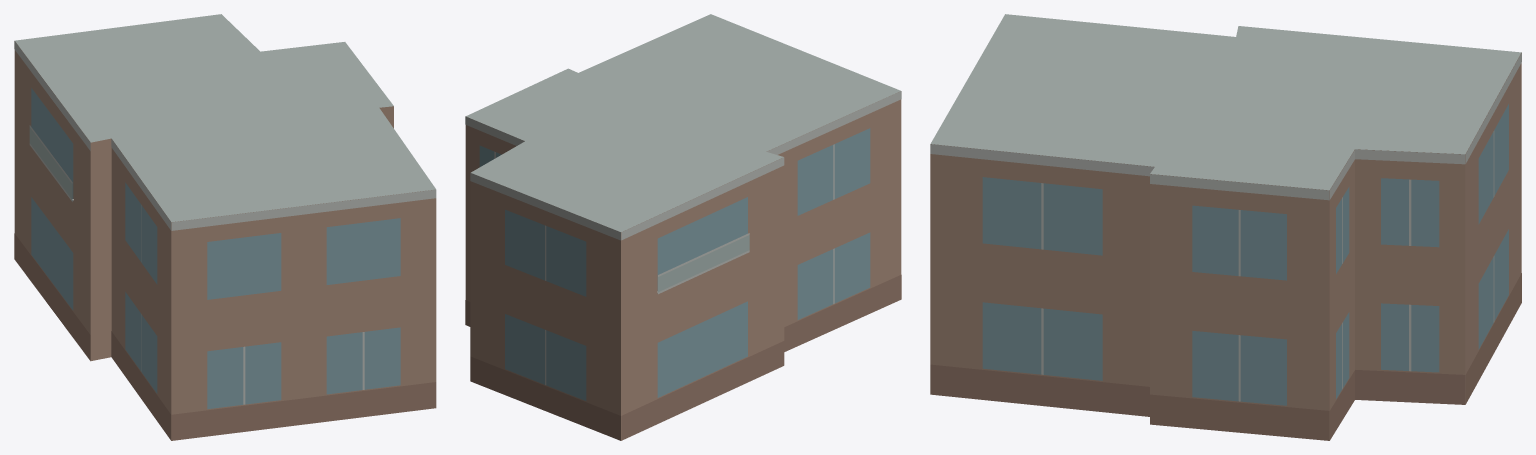
The model's file is survey-upis-32812464.glb.
3 views of the same model, side by side, from view 1: azimuth 30°, elevation 25°; view 2: azimuth 150°, elevation 25°; view 3: azimuth 270°, elevation 25° (orthographic). The views are drawn at different scales.
Visible parts, largest first — view 1: survey-upis-32812464.tmp; view 2: survey-upis-32812464.tmp; view 3: survey-upis-32812464.tmp.
Boxes of the visible parts, <box> form: survey-upis-32812464.tmp: <box>14,14,436,440</box>; survey-upis-32812464.tmp: <box>465,14,901,440</box>; survey-upis-32812464.tmp: <box>930,14,1521,440</box>.
Size of the model in its own units: 9.22 by 6.1 by 13.06.
